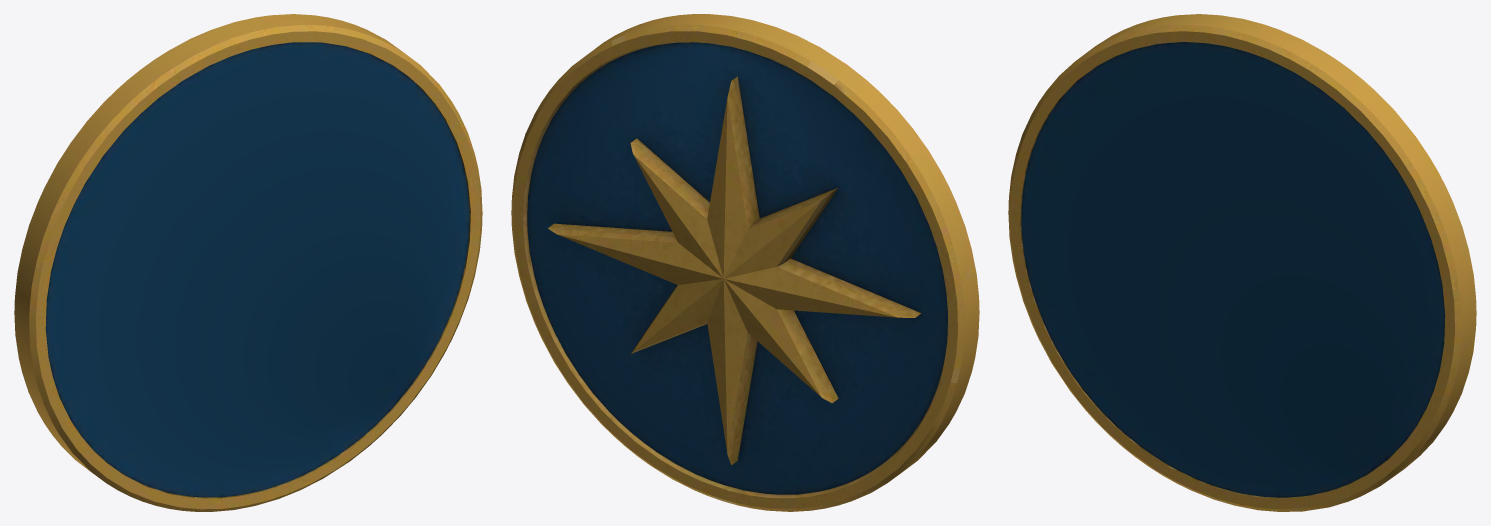
The picture shows the model from 3 angles, left to right: view 1: azimuth 30°, elevation 25°; view 2: azimuth 150°, elevation 25°; view 3: azimuth 330°, elevation 25°; orthographic projection.
Visible parts, largest first — view 1: Deep_sea_enamel, Compass_polished_warm_brass; view 2: Deep_sea_enamel, Compass_polished_warm_brass, Subtle_brass_edge_wear; view 3: Deep_sea_enamel, Compass_polished_warm_brass.
Part boxes in pixels (x1,y1,x2,y2): Deep_sea_enamel: [45, 42, 469, 497]; Compass_polished_warm_brass: [14, 14, 482, 511]; Deep_sea_enamel: [527, 42, 947, 494]; Compass_polished_warm_brass: [511, 14, 979, 511]; Subtle_brass_edge_wear: [511, 35, 960, 505]; Deep_sea_enamel: [1021, 42, 1445, 497]; Compass_polished_warm_brass: [1008, 14, 1476, 511].
Size of the model in its own units: 0.96 by 0.96 by 0.116.
Materials: 3 (3 with a texture image).
